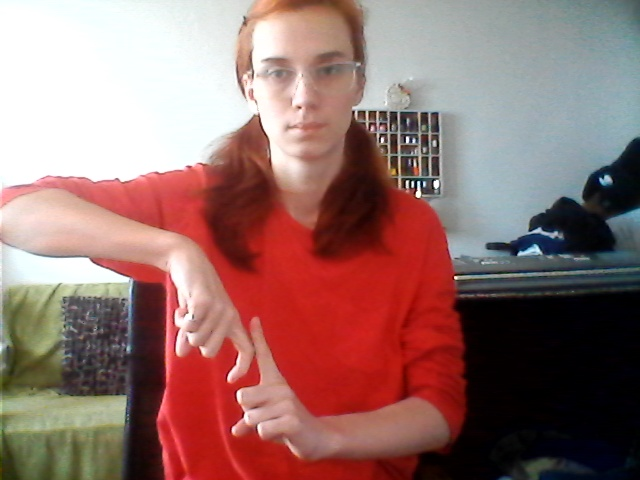k: (149, 230, 319, 464)
